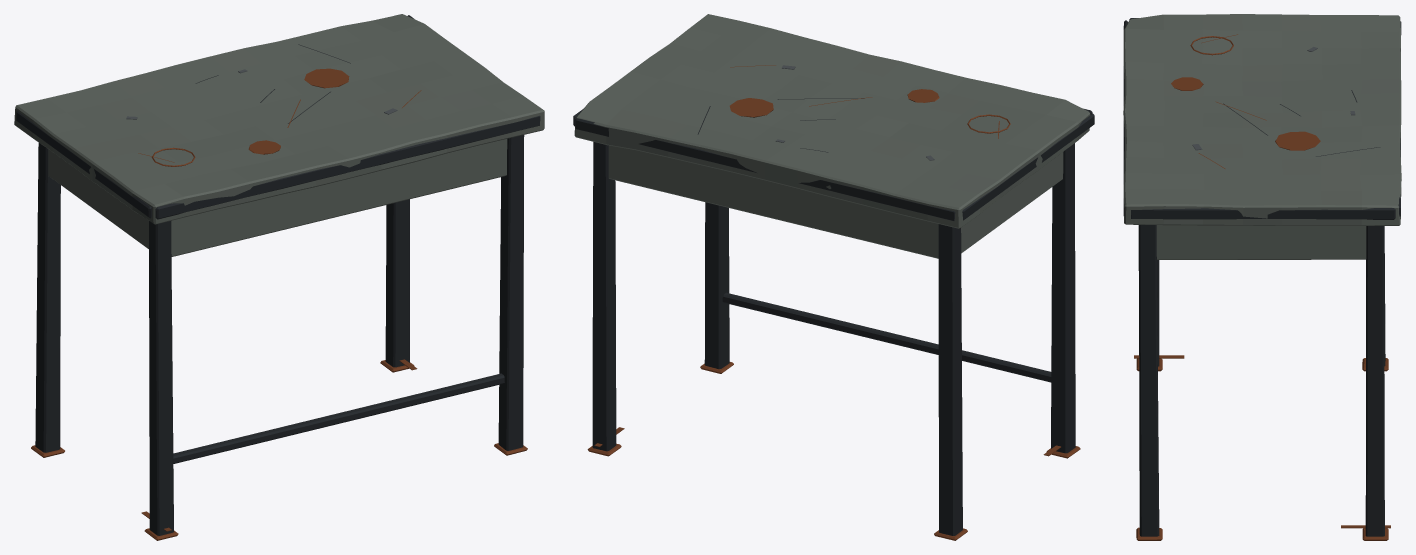
Rendered from table_small.glb.
The picture shows the model from 3 angles, left to right: view 1: azimuth 30°, elevation 25°; view 2: azimuth 150°, elevation 25°; view 3: azimuth 270°, elevation 25°; orthographic projection.
Visible parts, largest first — view 1: table_small; view 2: table_small; view 3: table_small.
Part boxes in pixels (x1,y1,x2,y2): table_small: (14, 14, 544, 540); table_small: (573, 14, 1094, 540); table_small: (1123, 14, 1401, 540).
Size of the model in its own units: 0.9031 by 0.7528 by 0.5539.
